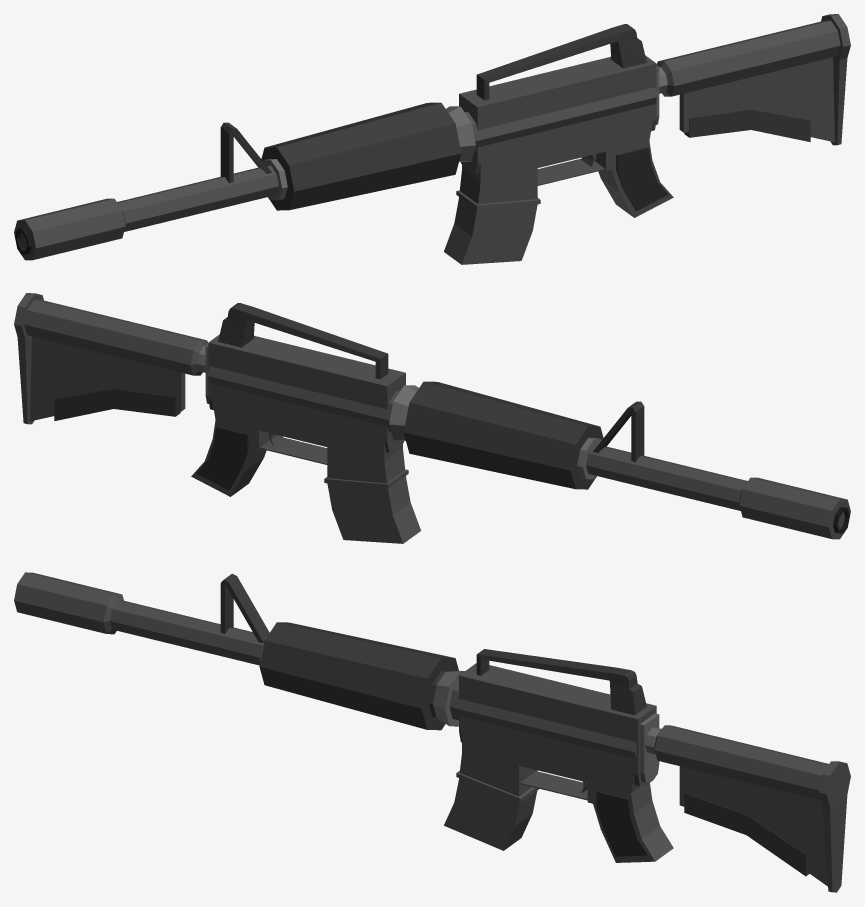
The model's file is long_gun.fbx.
3 renders of one model, top to bottom at view 1: azimuth 30°, elevation 25°; view 2: azimuth 150°, elevation 25°; view 3: azimuth 330°, elevation 25°, orthographic.
Parts seen in each view (by area): view 1: long_gun; view 2: long_gun; view 3: long_gun.
Part boxes in pixels (x1,y1,x2,y2): long_gun: (14,14,850,264); long_gun: (14,293,850,543); long_gun: (14,572,850,892).
Bounding box in the file's own units: 4.87 × 1.14 × 0.4121.
Materials: 1 (1 with a texture image).
